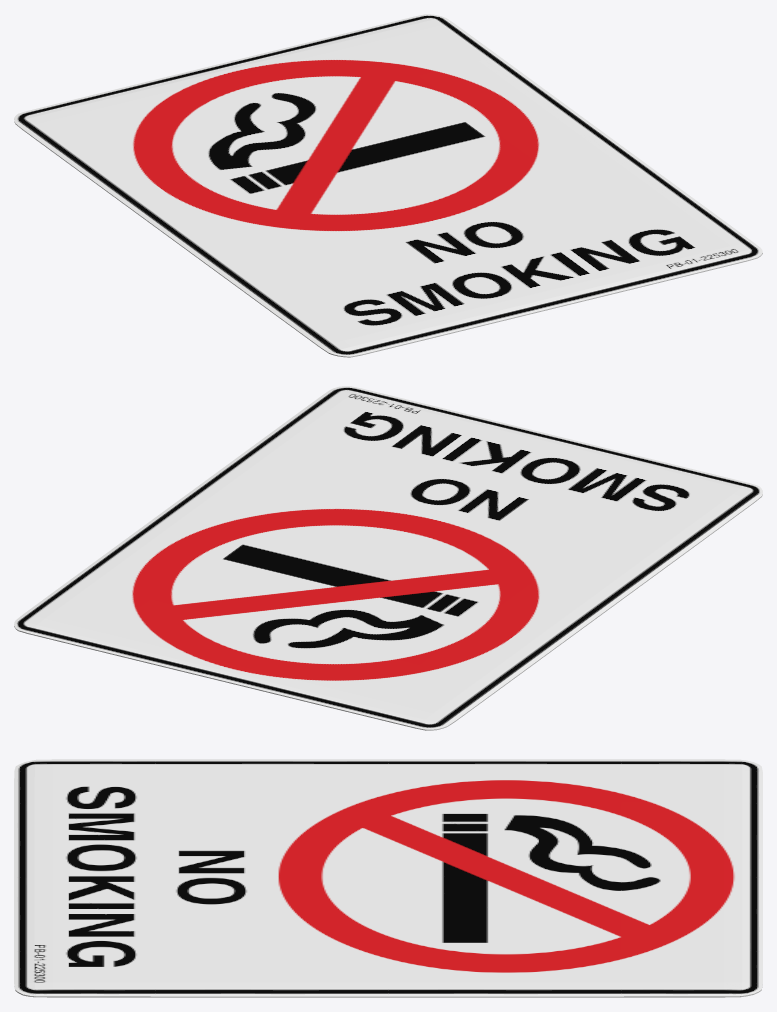
Rendered from smoken't.glb.
The picture shows the model from 3 angles, top to bottom: view 1: azimuth 30°, elevation 25°; view 2: azimuth 150°, elevation 25°; view 3: azimuth 270°, elevation 25°; orthographic projection. The views are drawn at different scales.
Parts seen in each view (by area): view 1: Plane.001; view 2: Plane.001; view 3: Plane.001.
Boxes of the visible parts, bbox=[...] form: Plane.001: bbox=[14, 14, 762, 357]; Plane.001: bbox=[14, 386, 762, 730]; Plane.001: bbox=[14, 759, 762, 997].
Bounding box in the file's own units: 0.2247 × 0.00129 × 0.3.
Materials: 2 (1 with a texture image).
